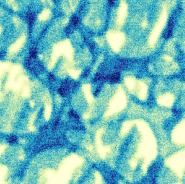hole_empty: (120, 73, 152, 105), (155, 90, 177, 110)
hole_filled: (0, 58, 60, 136), (34, 18, 96, 84), (13, 144, 115, 184), (104, 5, 179, 59), (91, 117, 157, 177)
